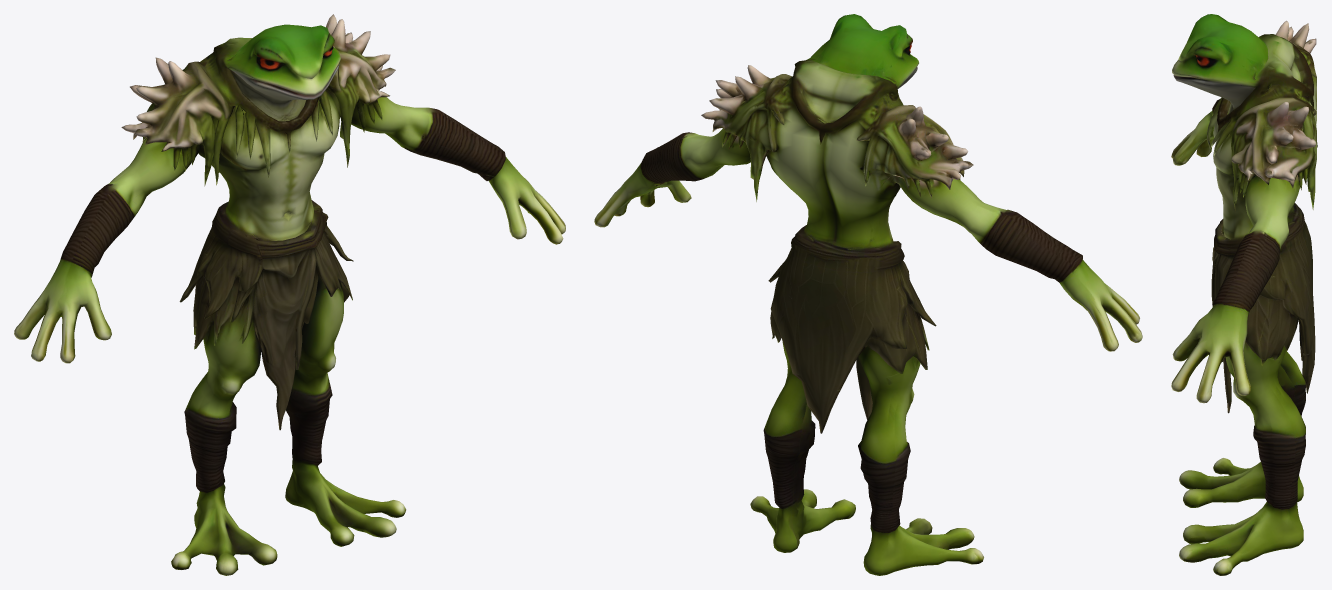
File: jab_1.glb
3 views of the same model, side by side, from view 1: azimuth 30°, elevation 25°; view 2: azimuth 150°, elevation 25°; view 3: azimuth 270°, elevation 25° (orthographic). The views are drawn at different scales.
Visible parts, largest first — view 1: part_0000; view 2: part_0000; view 3: part_0000.
Boxes of the visible parts, x1,y1,x2,y2 form: part_0000: (14, 14, 565, 575); part_0000: (594, 14, 1142, 575); part_0000: (1171, 14, 1317, 575).
Bounding box in the file's own units: 1.19 × 1.1 × 0.2925.
1 material, 1 textured.
